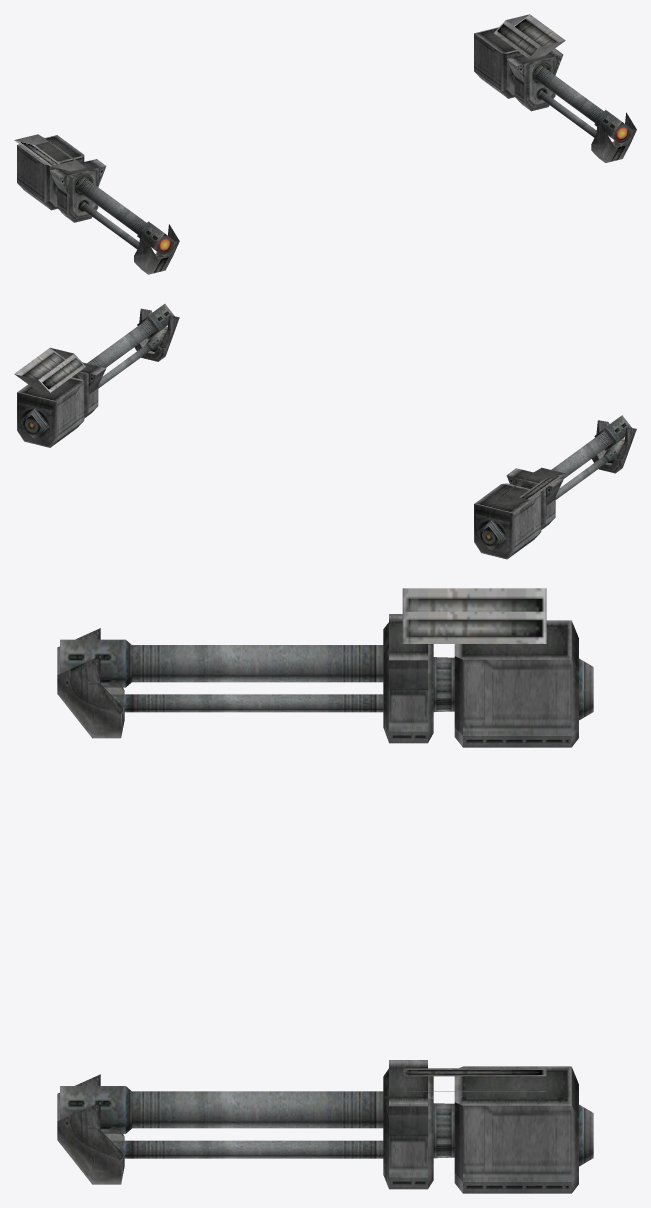
File: black_sun_fighter_heavy_weapon1_s06_l1.fbx
3 views of the same model, one above another, from view 1: azimuth 30°, elevation 25°; view 2: azimuth 150°, elevation 25°; view 3: azimuth 270°, elevation 25° (orthographic). The views are drawn at different scales.
Visible parts, largest first — view 1: mesh_node; view 2: mesh_node; view 3: mesh_node.
Boxes of the visible parts, x1,y1,x2,y2 form: mesh_node: (14, 14, 636, 274); mesh_node: (14, 304, 636, 559); mesh_node: (57, 588, 593, 1193).
Bounding box in the file's own units: 13.97 × 1.53 × 6.28.
